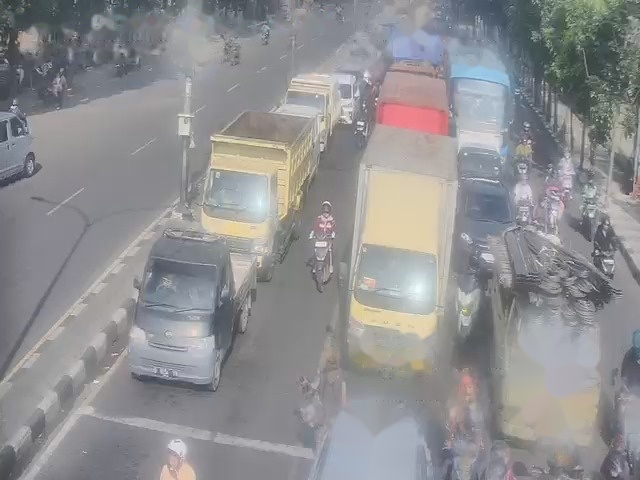Bis: (455, 50, 511, 147)
Mobil: (133, 218, 248, 394), (466, 181, 515, 266), (0, 112, 35, 188)
Motor: (455, 282, 474, 338), (449, 441, 466, 480), (597, 243, 614, 276), (577, 198, 594, 231), (312, 238, 328, 271), (544, 194, 556, 231), (518, 193, 529, 221), (561, 171, 571, 194), (516, 156, 523, 180)
Truk: (354, 126, 454, 362), (198, 100, 323, 255), (496, 237, 589, 436)
